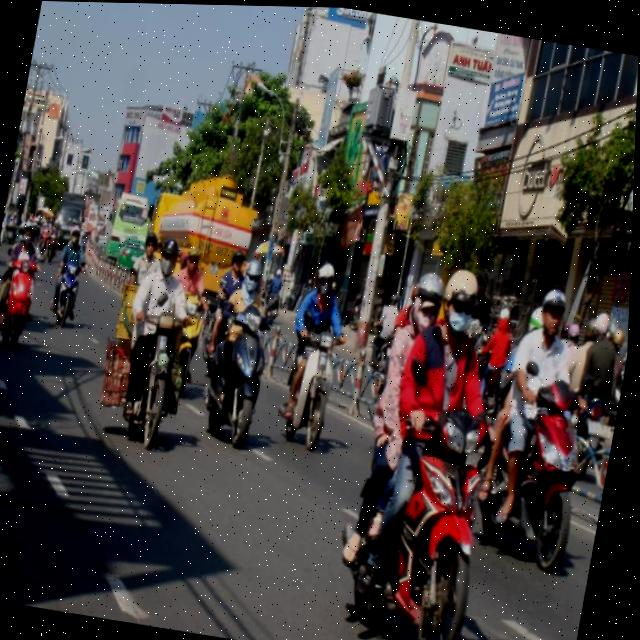motorcycle: (334, 391, 512, 640), (490, 375, 612, 581), (189, 300, 282, 457), (110, 304, 194, 458), (270, 315, 350, 460), (44, 262, 87, 331), (0, 285, 38, 350)
